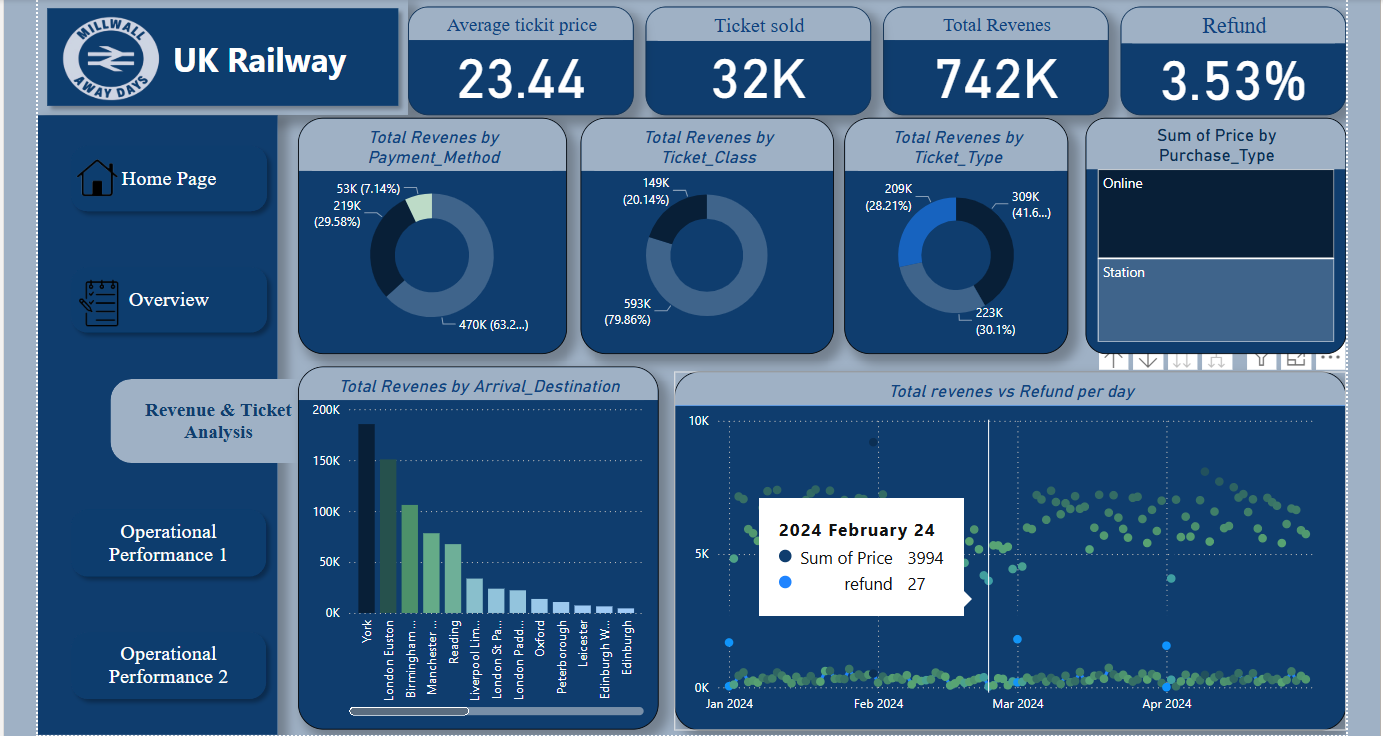

What the dashboard file says about the page in this screenshot:
{"tool":"powerbi","page":{"name":"Revenue & Ticket Analysis","canvas":[1280,720],"ordinal":2},"visuals":[{"type":"shape","box":[0,0,361.5,113.5],"z":0},{"type":"textbox","box":[127.6,31.9,251.5,54],"z":1000},{"type":"shape","box":[0,113.5,234.4,606.1],"z":1000,"group":"g1"},{"type":"image","box":[17.5,6.2,108.8,107.5],"z":2000},{"type":"card","title":"Total Revenes","fields":{"Values":["Sum(clean_railway.Price)"]},"box":[826.6,7.1,221.1,106.1],"z":3000},{"type":"card","title":"Ticket sold","fields":{"Values":["Table.num"]},"box":[594,7.1,221.1,106.1],"z":4000},{"type":"shape","box":[71.2,371.7,211,82.2],"z":4000,"group":"g1"},{"type":"card","title":"Average tickit price","fields":{"Values":["Avg(clean_railway.Price)"]},"box":[361.5,7.1,221.1,106.1],"z":5000},{"type":"group","id":"g1","title":"Group 1","box":[0,113.5,282.2,606.1],"z":6000},{"type":"shape","box":[23.7,490.4,209,83.6],"z":6000,"group":"g1"},{"type":"shape","box":[23.7,610.4,209,83.6],"z":7000},{"type":"donutChart","title":"Total Revenes by Payment_Method","fields":{"Y":["Sum(clean_railway.Price)"],"Category":["clean_railway.Payment_Method"]},"box":[253.9,116.5,262.9,231.5],"z":8000},{"type":"donutChart","title":"Total Revenes by Ticket_Class","fields":{"Y":["Sum(clean_railway.Price)"],"Category":["clean_railway.Ticket_Class"]},"box":[530.3,116.5,248,231.5],"z":9000},{"type":"donutChart","title":"Total Revenes by Ticket_Type","fields":{"Y":["Sum(clean_railway.Price)"],"Category":["clean_railway.Ticket_Type"]},"box":[788.7,116.5,219.6,231.5],"z":10000},{"type":"card","title":"Refund","fields":{"Values":["my measures.Refund %"]},"box":[1058.9,7.1,221.1,106.1],"z":11000},{"type":"clusteredColumnChart","title":"Total Revenes by Arrival_Destination","fields":{"Category":["clean_railway.Arrival_Destination"],"Y":["Sum(clean_railway.Price)"]},"box":[253.9,360,352.5,355.5],"z":12000},{"type":"shape","box":[23.3,253,209.8,82.2],"z":13000,"group":"g1"},{"type":"lineChart","title":"Total revenes vs Refund per day","fields":{"Category":["clean_railway.Date_of_Journey.Variation.Date Hierarchy.Year","clean_railway.Date_of_Journey.Variation.Date Hierarchy.Month","clean_railway.Date_of_Journey.Variation.Date Hierarchy.Day"],"Y":["Sum(clean_railway.Price)","Table.refund"]},"box":[622.9,364.5,657.3,351],"z":13000},{"type":"treemap","fields":{"Group":["clean_railway.Purchase_Type"],"Values":["Sum(clean_railway.Price)"]},"box":[1024.7,116.5,255.4,231.5],"z":14000},{"type":"shape","box":[23.3,134.4,209.8,82.2],"z":14000,"group":"g1"},{"type":"image","box":[31.3,268.7,55.2,56.7],"z":14500,"group":"g1"},{"type":"image","box":[24.5,147.9,69.9,55.2],"z":15002,"group":"g1"}]}

Visuals, with their boxes on the page's 1280x720 design canvas (x1, y1, x2, y2). These are canvas units, not pixel positions in the 1383x736 screenshot, which may show the page scaled, cropped or inside an application window:
shape: detection(0, 0, 362, 114)
textbox: detection(128, 32, 379, 86)
shape: detection(0, 114, 234, 720)
image: detection(18, 6, 126, 114)
"Total Revenes" card: detection(827, 7, 1048, 113)
"Ticket sold" card: detection(594, 7, 815, 113)
shape: detection(71, 372, 282, 454)
"Average tickit price" card: detection(362, 7, 583, 113)
"Group 1" group: detection(0, 114, 282, 720)
shape: detection(24, 490, 233, 574)
shape: detection(24, 610, 233, 694)
"Total Revenes by Payment_Method" donutChart: detection(254, 116, 517, 348)
"Total Revenes by Ticket_Class" donutChart: detection(530, 116, 778, 348)
"Total Revenes by Ticket_Type" donutChart: detection(789, 116, 1008, 348)
"Refund" card: detection(1059, 7, 1280, 113)
"Total Revenes by Arrival_Destination" clusteredColumnChart: detection(254, 360, 606, 716)
shape: detection(23, 253, 233, 335)
"Total revenes vs Refund per day" lineChart: detection(623, 364, 1280, 716)
treemap - clean_railway.Purchase_Type x Sum(clean_railway.Price): detection(1025, 116, 1280, 348)
shape: detection(23, 134, 233, 217)
image: detection(31, 269, 86, 325)
image: detection(24, 148, 94, 203)
